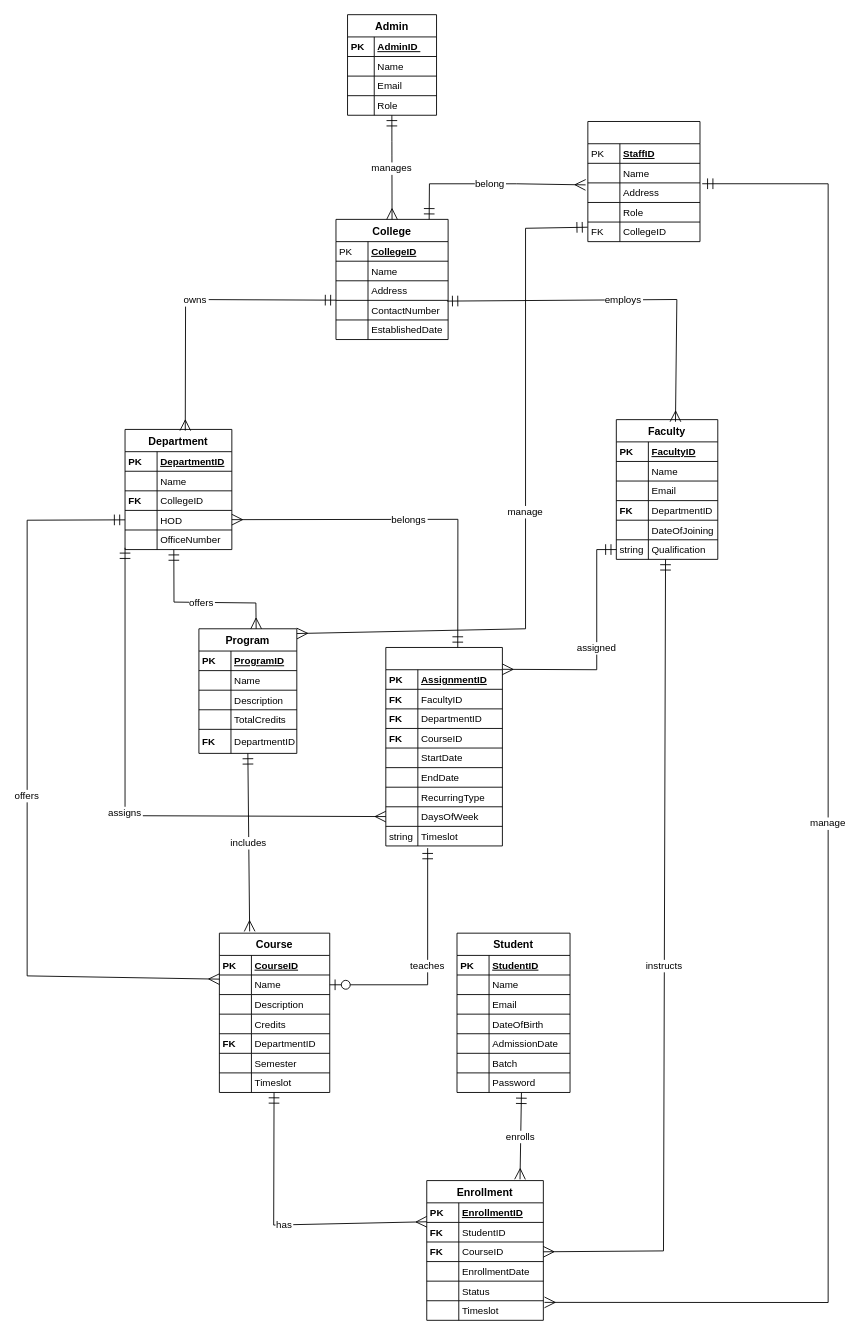
This 862x1335 diagram has some shape labels left out. The box of each missing label's shape, as (x1, y1, x2, y2) in pixels:
CollegeStaff: (587, 121, 700, 242)
FacultyAssignment: (385, 647, 502, 846)
